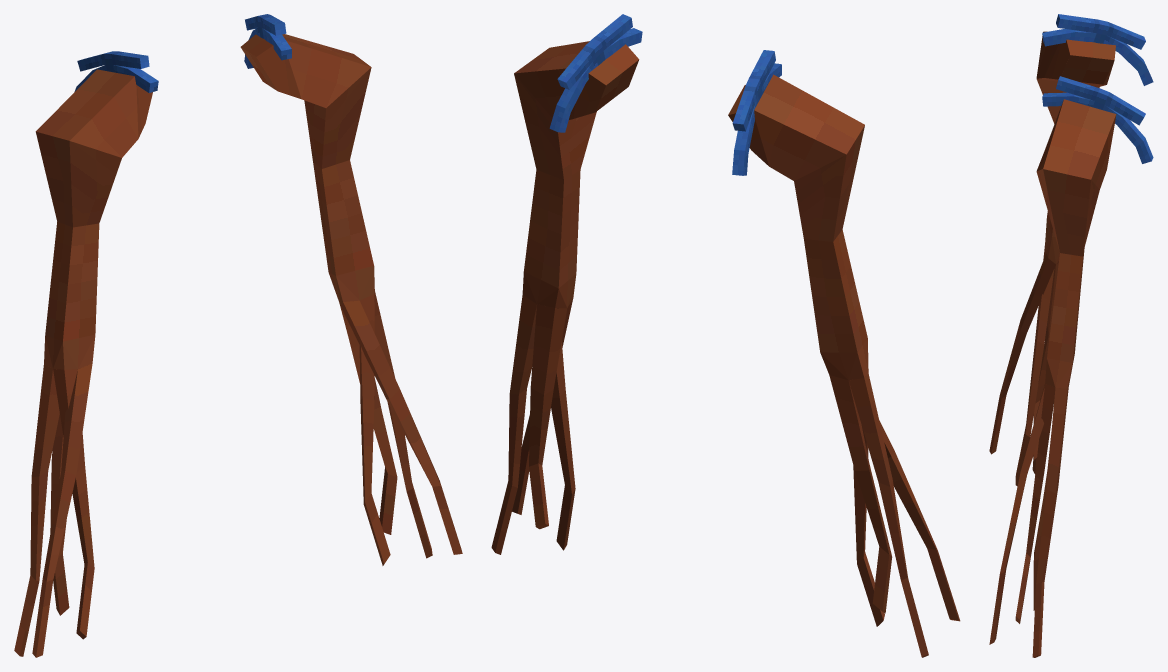
File: twintails_brown.obj
3 renders of one model, left to right at view 1: azimuth 30°, elevation 25°; view 2: azimuth 150°, elevation 25°; view 3: azimuth 270°, elevation 25°, orthographic. The views are drawn at different scales.
Visible parts, largest first — view 1: TwinTail_TwinTailModel, Cube.001_Cube.002; view 2: TwinTail_TwinTailModel, Cube.001_Cube.002; view 3: TwinTail_TwinTailModel, Cube.001_Cube.002.
Part boxes in pixels (left/top/right/bottom): TwinTail_TwinTailModel: left=14, top=34, right=462, bottom=657; Cube.001_Cube.002: left=74, top=14, right=291, bottom=92; TwinTail_TwinTailModel: left=491, top=41, right=960, bottom=657; Cube.001_Cube.002: left=549, top=14, right=781, bottom=175; TwinTail_TwinTailModel: left=989, top=31, right=1116, bottom=657; Cube.001_Cube.002: left=1042, top=14, right=1153, bottom=163.
Bounding box in the file's own units: 1.39 × 1.73 × 0.4953.
